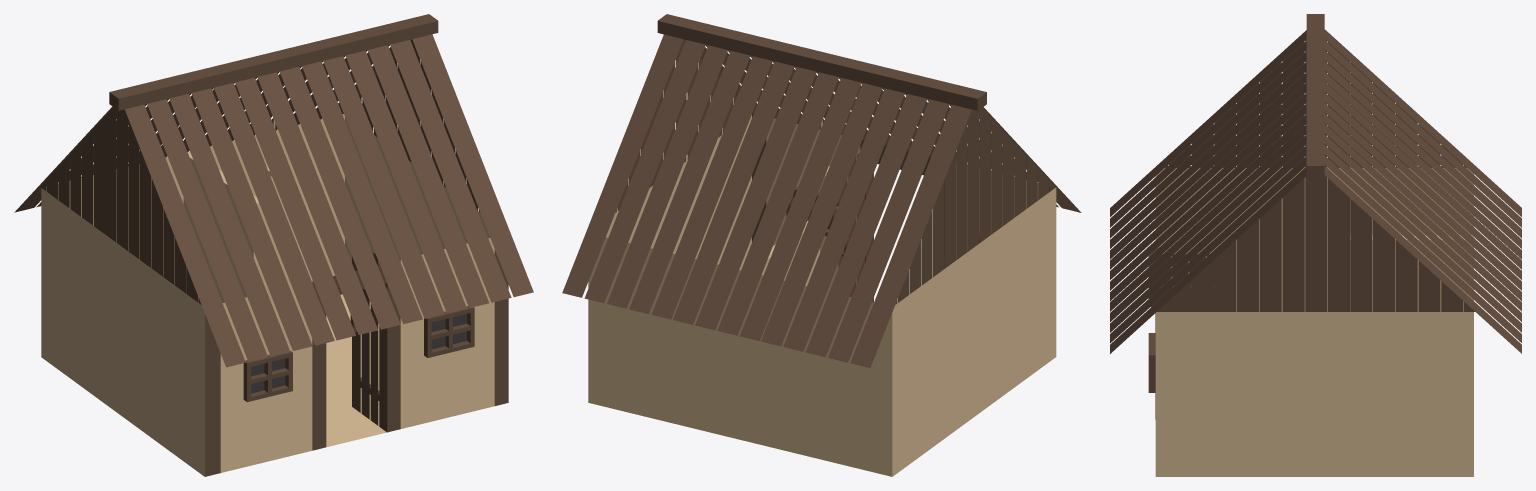
File: interior.fbx
3 views of the same model, side by side, from view 1: azimuth 30°, elevation 25°; view 2: azimuth 150°, elevation 25°; view 3: azimuth 270°, elevation 25° (orthographic). The views are drawn at different scales.
Visible parts, largest first — view 1: Cube; view 2: Cube; view 3: Cube.
Part boxes in pixels (x1,y1,x2,y2): Cube: (14, 14, 533, 476); Cube: (562, 14, 1081, 476); Cube: (1110, 14, 1521, 476).
Bounding box in the file's own units: 1579 × 1528 × 1810.
